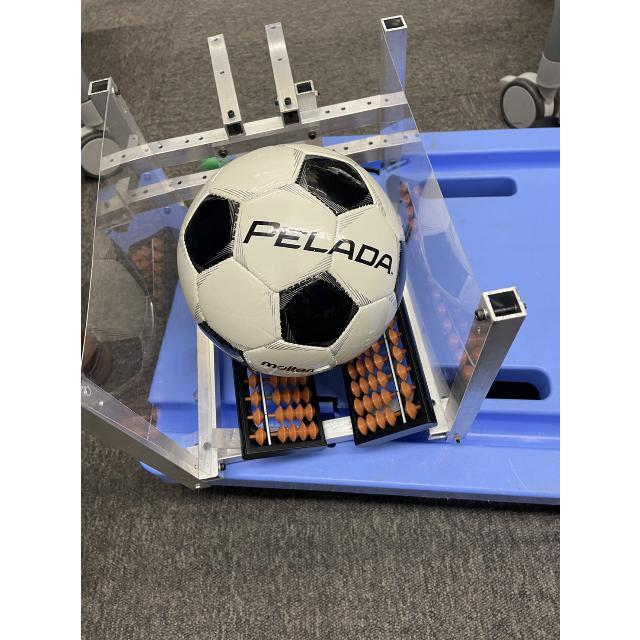ball: (176, 144, 406, 376)
